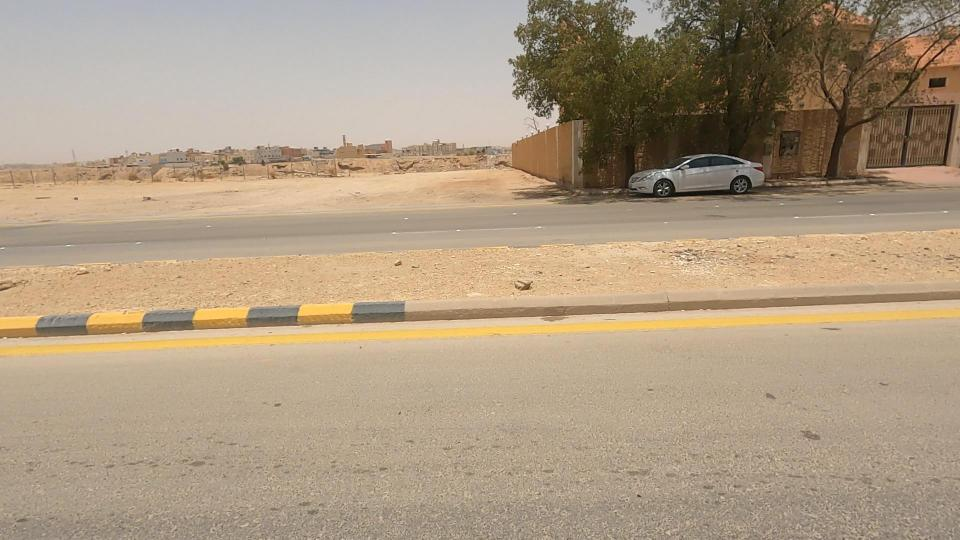CLUTTER_SIDEWALK: (384, 159, 960, 368), (0, 217, 567, 333)
